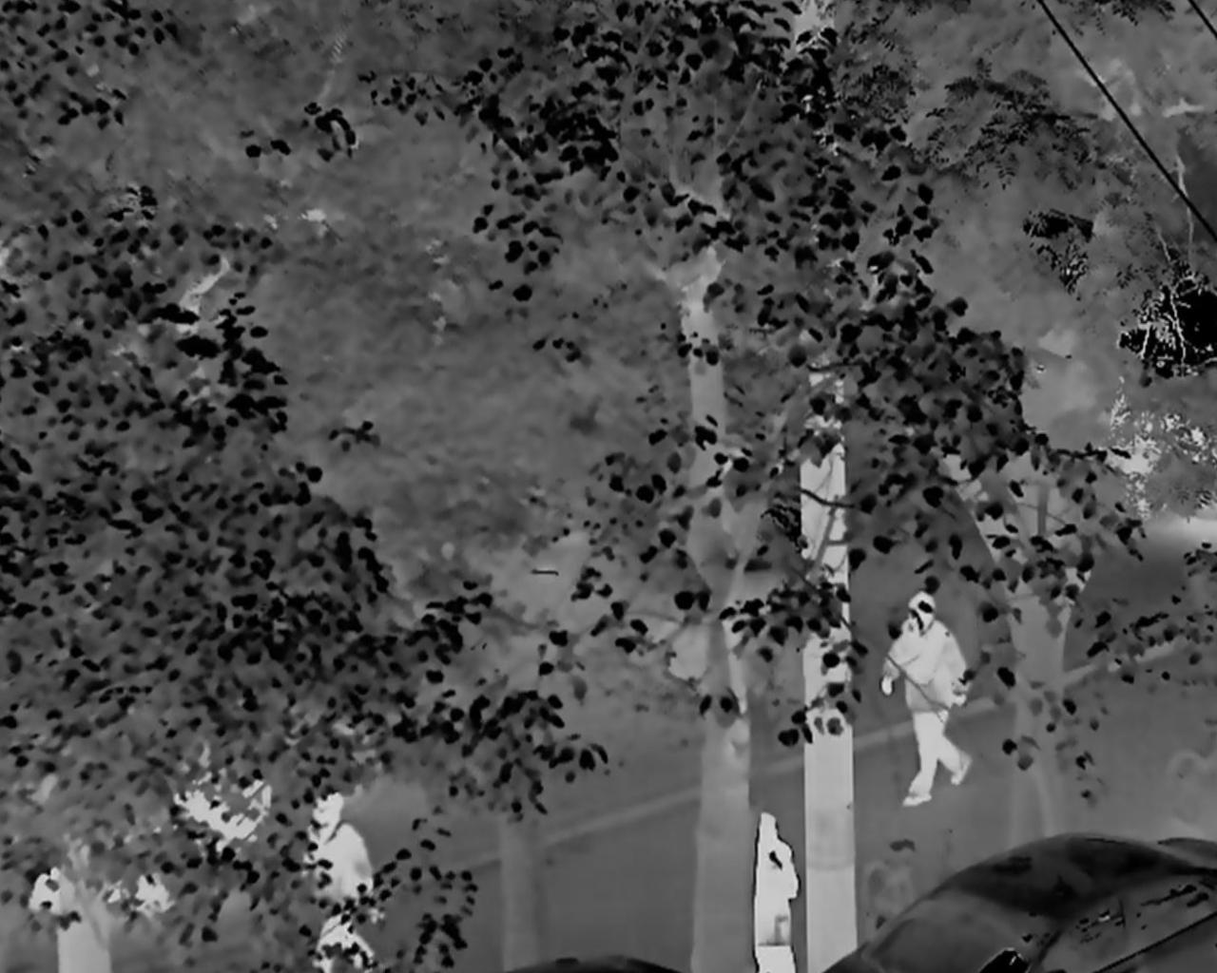person: (879, 591, 978, 809), (299, 785, 385, 973), (751, 813, 799, 973)
